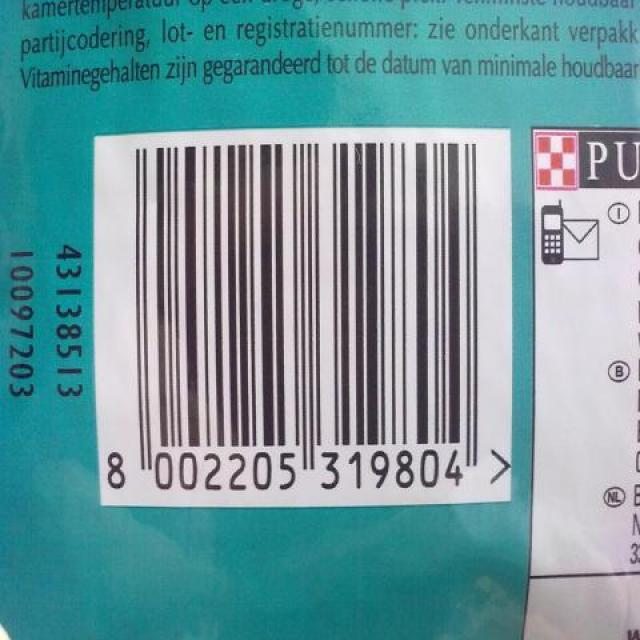Barcode: (93, 128, 514, 507)
